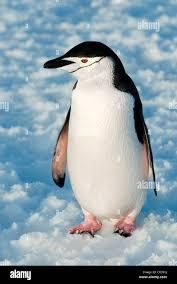chinstrap: (35, 31, 177, 250)
